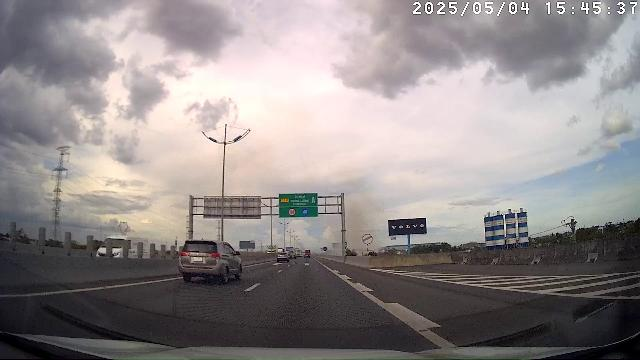127-toc-do-toi-da-100: (288, 208, 296, 216)
306-toc-do-toi-thieu-60: (301, 208, 309, 214)
437-bat-dau-duong-cao-toc: (310, 196, 316, 204)
